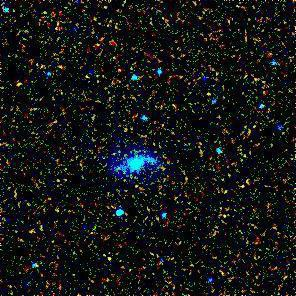star: (3, 73, 33, 103)
